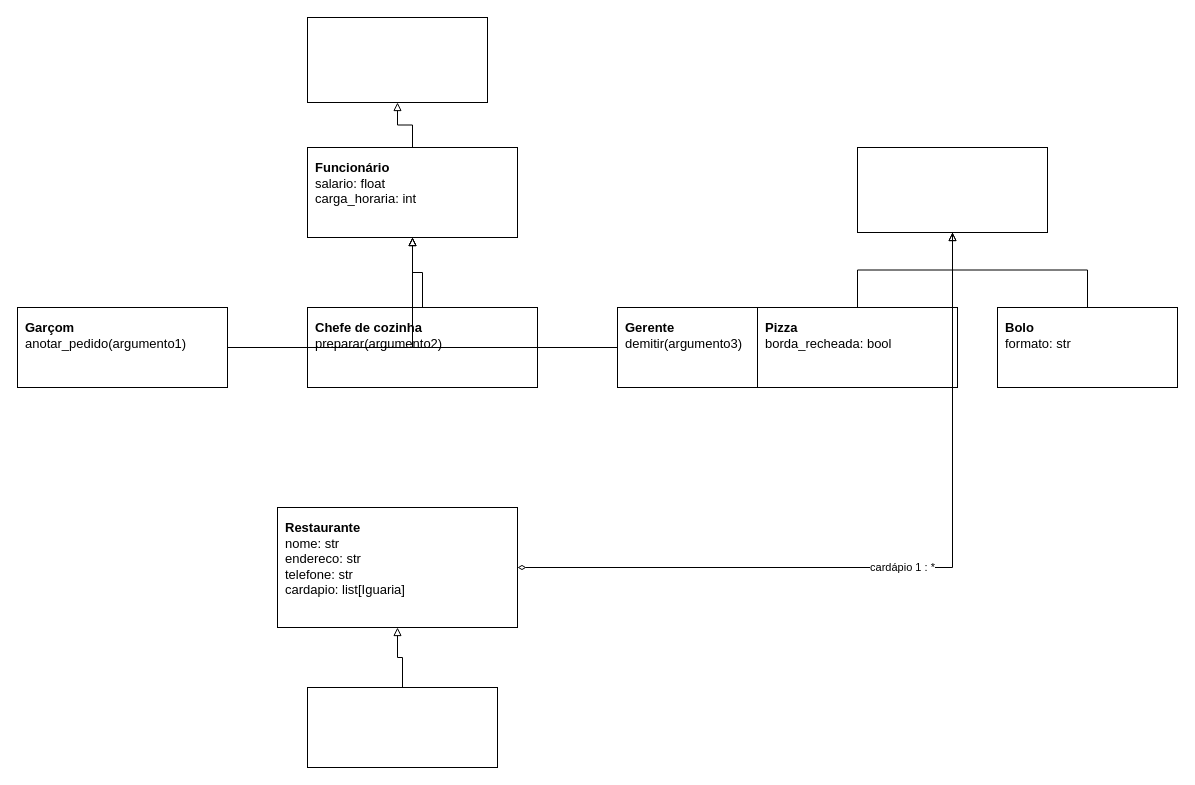
Some shapes in this 1195 by 785 pixel diagram are drawn without their labels. Here are the shapes that lost their labels. From the top down, the centre of each, then its label:
the point at 397,59: Pessoa nome: str idade: int
the point at 952,189: Iguaria nome: str preco: float
the point at 402,727: Pizzaria rodizio: bool
